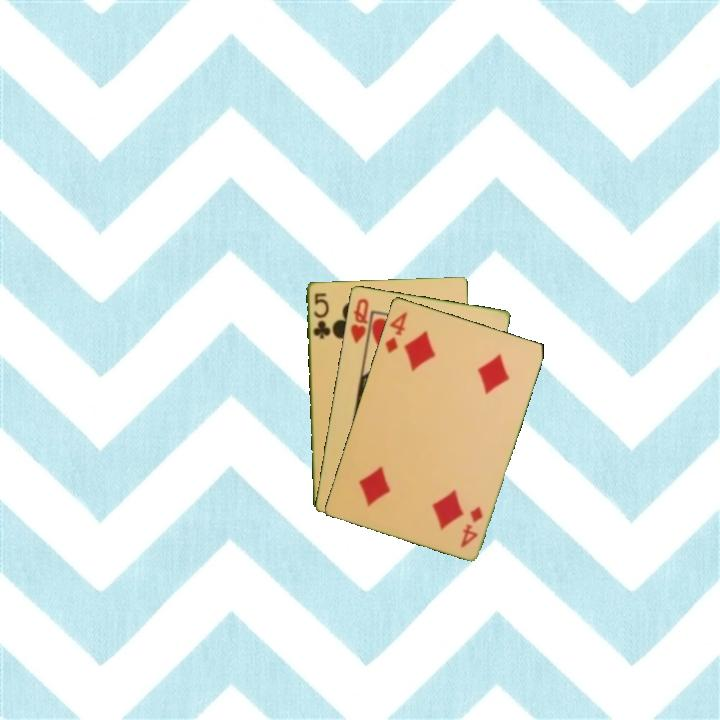4d: (381, 307, 410, 356), (457, 502, 486, 550)
5c: (309, 289, 333, 341)
Qh: (347, 295, 371, 346)
